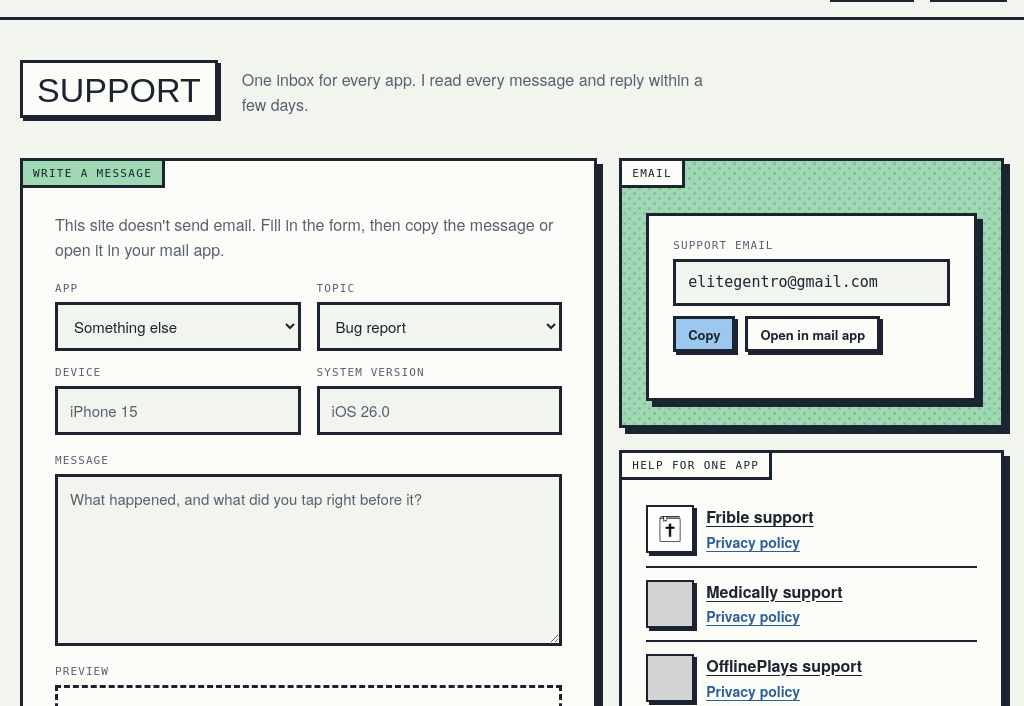
support pages › lets the general support page pick an app
Expected: the heading "Support" is shown, x1=20 y1=60 x2=218 y2=118
Select "Medically" in the dropdown labelled "App" at [178, 326], box x1=55 y1=302 x2=301 y2=351
(page scrolled)
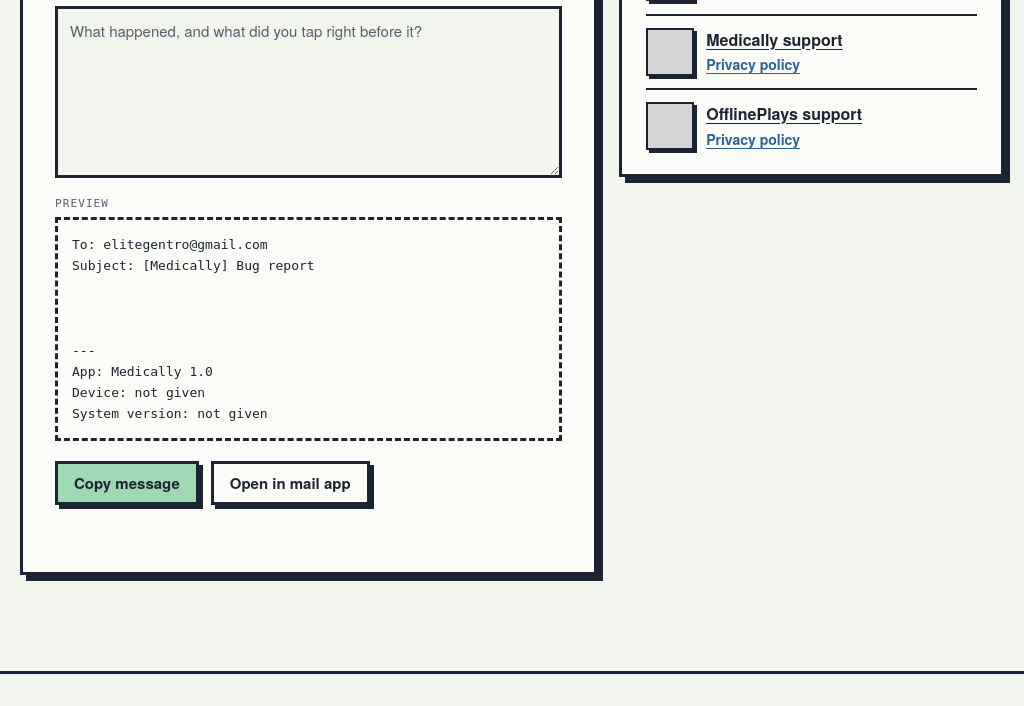
Result: the text "Subject: [Medically] Bug report" is shown at x1=72 y1=237 x2=315 y2=421
